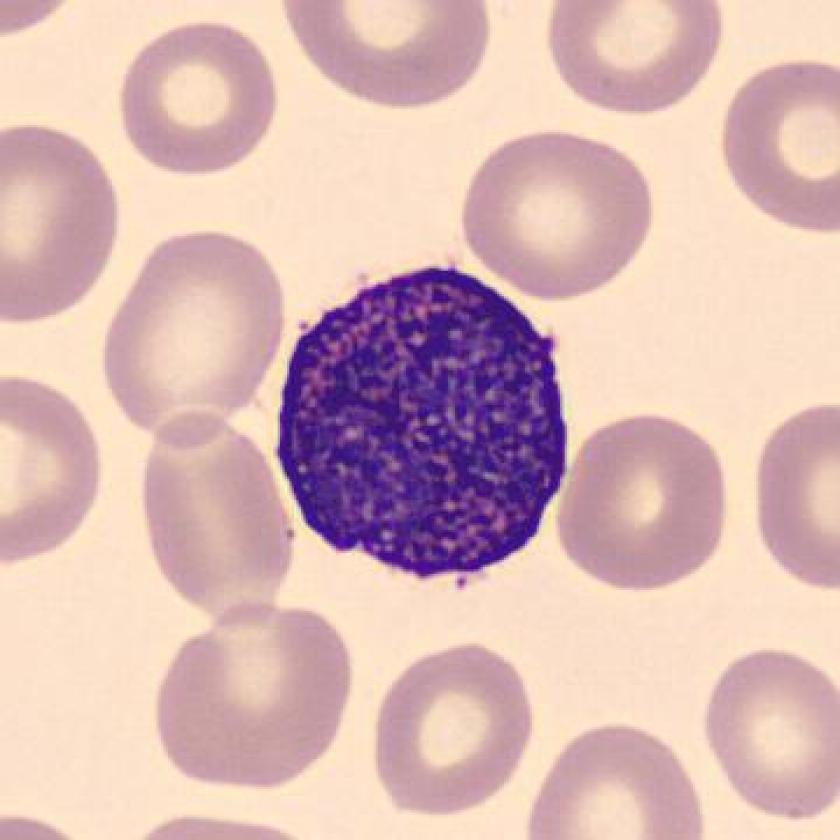basophil: (276, 260, 575, 587)
